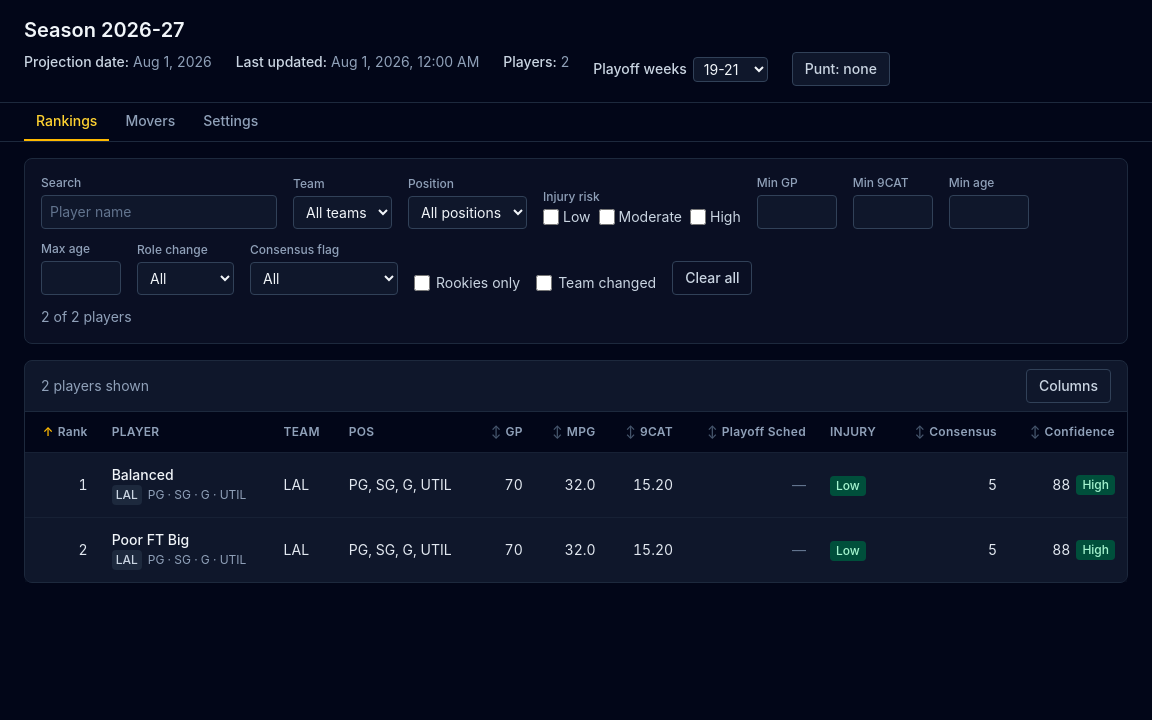
App › punt build › checking punt FT% re-ranks the poor-FT big above the balanced player, as hand math predicts
Expected: the text "Balanced" is shown, [112,466,174,483]
Expected: the text "ranked for punt" is not shown
What coordinates should you click on to do the following:
click the button "Punt: none"
I would click on:
 (841, 69)
Its box is [792,52,890,86].
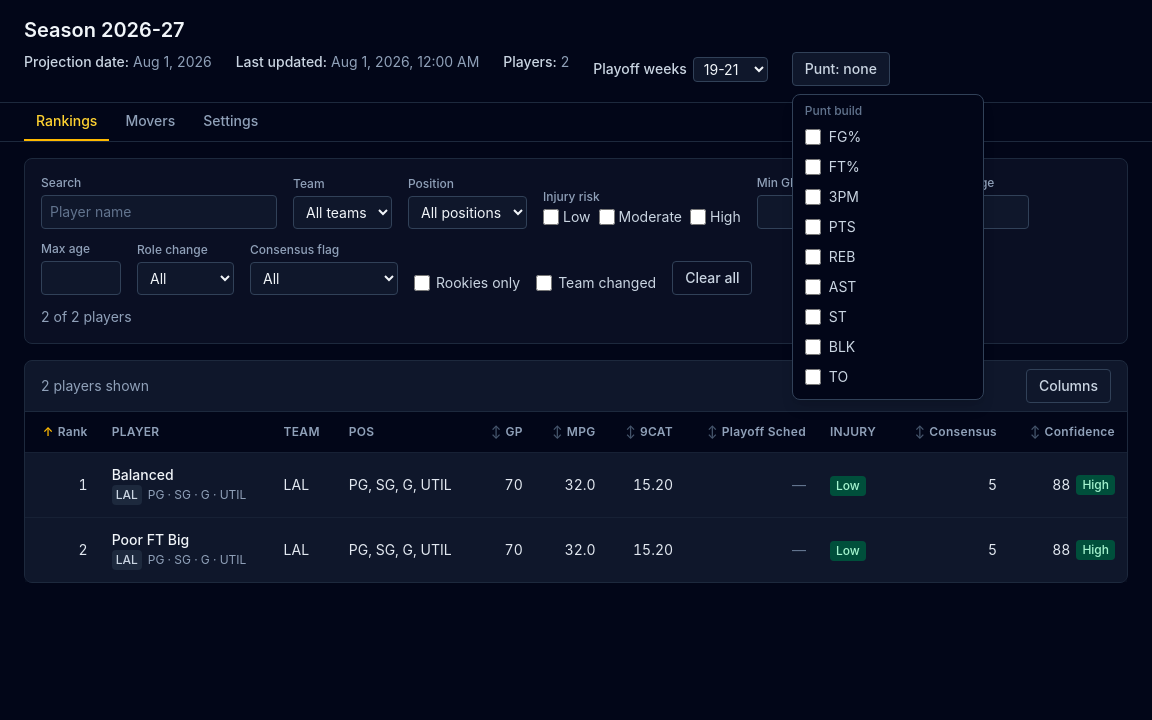
What coordinates should you click on to do the following:
click the checkbox labelled "FT%"
I would click on:
 (813, 167)
Its box is [805,159,821,175].
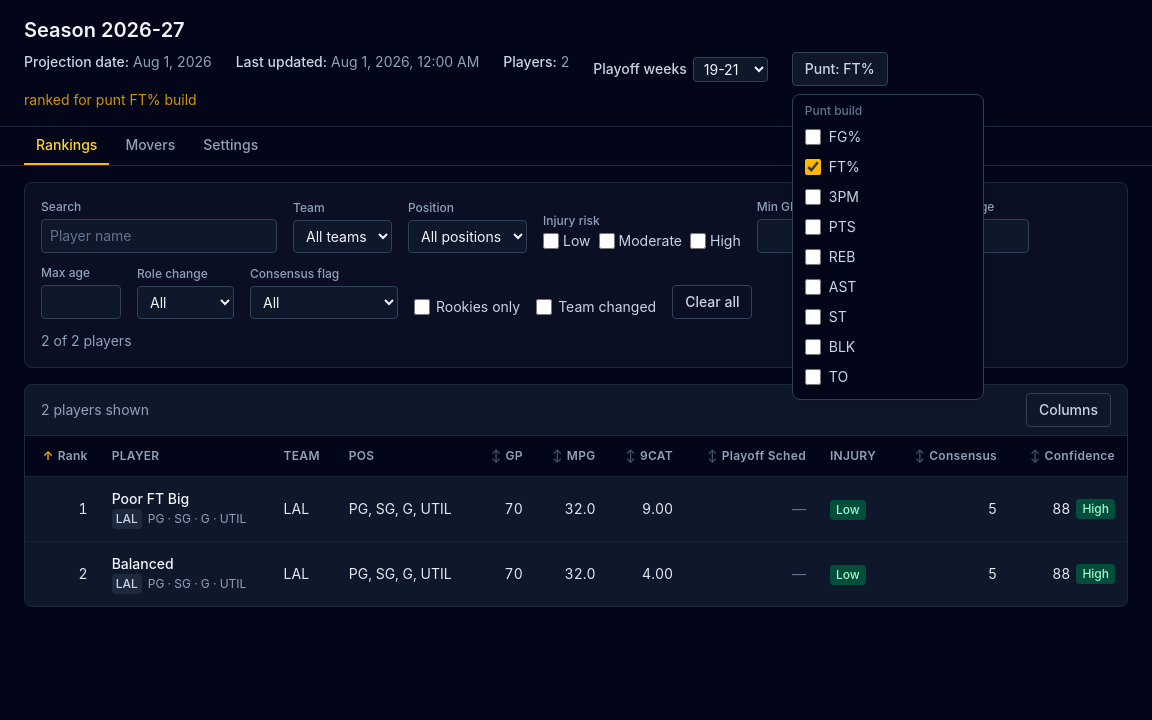
Expected: the text "Poor FT Big" is shown, [112,490,189,507]
Expected: the text "ranked for punt FT% build" is shown, [24,91,197,108]
